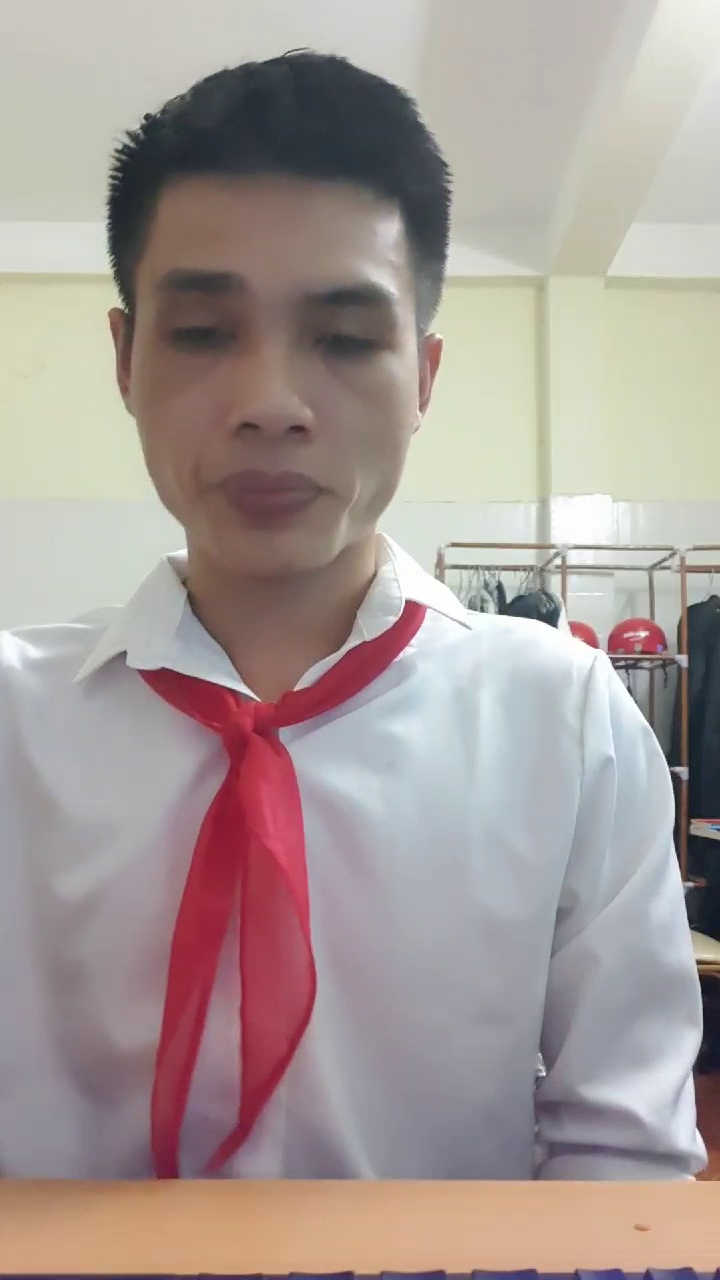redscarf: (146, 671, 330, 1091)
